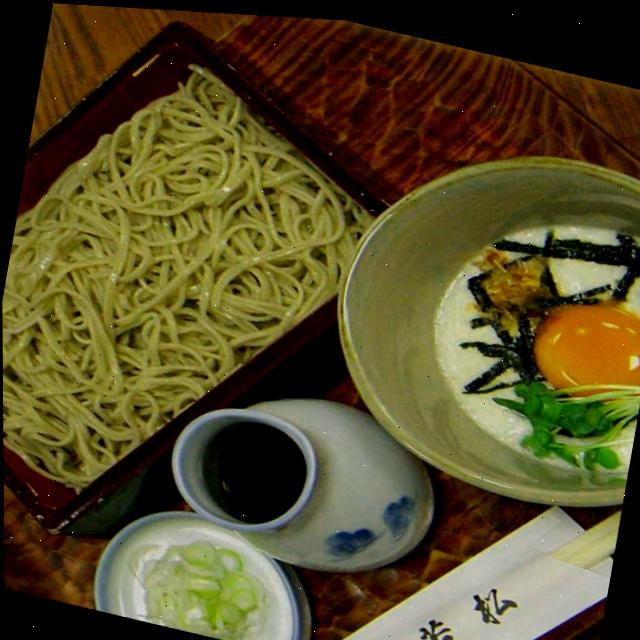面条主食: (0, 0, 446, 602)
